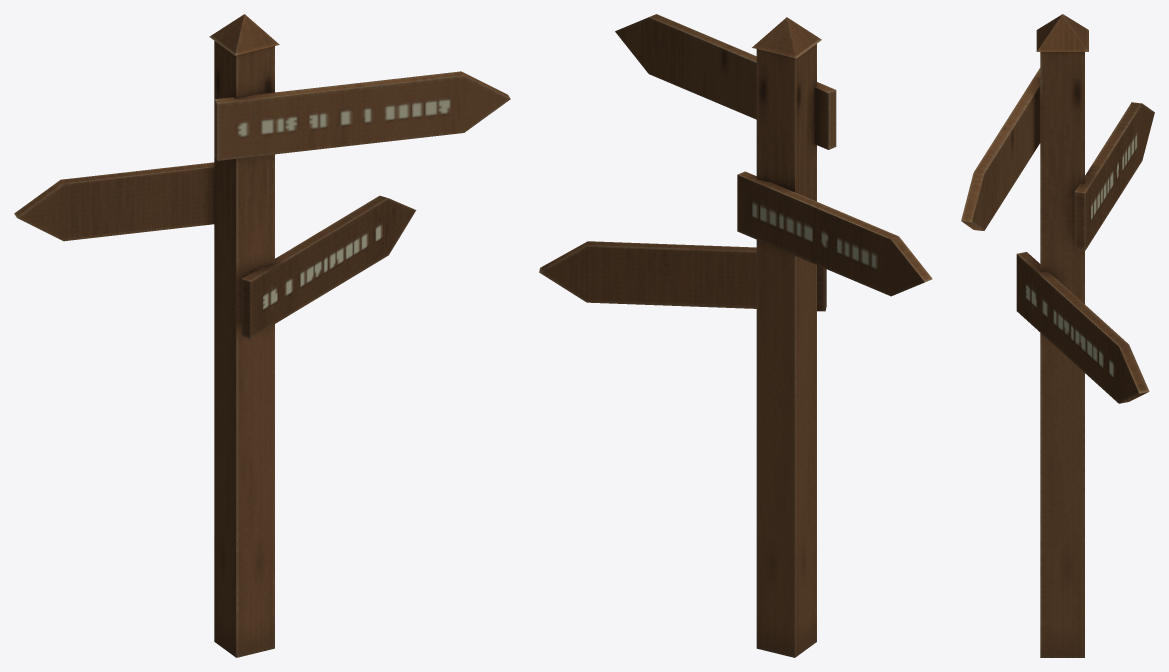
Rendered from Sign_Trail_01.obj.
3 renders of one model, left to right at view 1: azimuth 30°, elevation 25°; view 2: azimuth 150°, elevation 25°; view 3: azimuth 270°, elevation 25°, orthographic.
Parts seen in each view (by area): view 1: Sign_Trail_01; view 2: Sign_Trail_01; view 3: Sign_Trail_01.
Boxes of the visible parts, x1,y1,x2,y2 form: Sign_Trail_01: [14, 14, 510, 657]; Sign_Trail_01: [539, 14, 932, 657]; Sign_Trail_01: [961, 14, 1154, 657].
Size of the model in its own units: 1.26 by 1.88 by 0.5207.
Materials: 1 (1 with a texture image).
